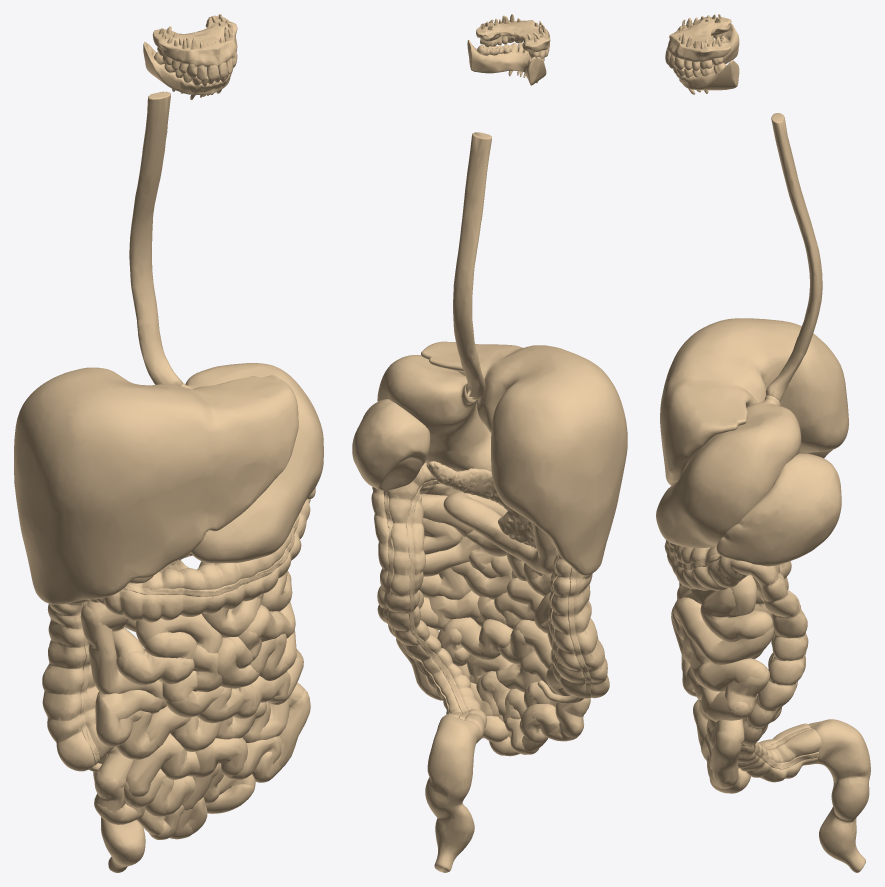
File: digestive.glb
3 renders of one model, left to right at view 1: azimuth 30°, elevation 25°; view 2: azimuth 150°, elevation 25°; view 3: azimuth 270°, elevation 25°, orthographic. The views are drawn at different scales.
Visible parts, largest first — view 1: FMA7197, FMA7208, FMA7207, FMA14543nsn, FMA7148, FMA7131, FMA59763, FMA14544, FMA76892, FMA59764, FMA76893; view 2: FMA7197, FMA14543nsn, FMA7208, FMA7207, FMA7148, FMA14544, FMA7196, FMA7131, FMA7206, FMA7198nsn, FMA76891, FMA76892 (+2 smaller); view 3: FMA7197, FMA7148, FMA14543nsn, FMA7207, FMA7196, FMA14544, FMA7131, FMA7208, FMA59763, FMA59764, FMA76892.
Part boxes in pixels (left/top/right/bottom): FMA7197: left=14, top=367, right=298, bottom=604; FMA7208: left=94, top=682, right=310, bottom=839; FMA7207: left=80, top=570, right=303, bottom=723; FMA14543nsn: left=42, top=499, right=310, bottom=771; FMA7148: left=181, top=363, right=323, bottom=563; FMA7131: left=129, top=91, right=182, bottom=386; FMA59763: left=152, top=15, right=237, bottom=67; FMA14544: left=93, top=755, right=145, bottom=872; FMA76892: left=49, top=514, right=299, bottom=644; FMA59764: left=143, top=41, right=231, bottom=94; FMA76893: left=80, top=600, right=99, bottom=766; FMA7197: left=421, top=341, right=627, bottom=575; FMA14543nsn: left=371, top=463, right=609, bottom=740; FMA7208: left=396, top=617, right=598, bottom=756; FMA7207: left=417, top=493, right=592, bottom=630; FMA7148: left=377, top=355, right=491, bottom=471; FMA14544: left=425, top=716, right=480, bottom=872; FMA7196: left=352, top=399, right=430, bottom=490; FMA7131: left=453, top=132, right=491, bottom=400; FMA7206: left=443, top=491, right=556, bottom=574; FMA7198nsn: left=426, top=461, right=536, bottom=548; FMA76891: left=406, top=480, right=560, bottom=719; FMA76892: left=383, top=490, right=591, bottom=714; FMA7197: left=660, top=318, right=848, bottom=485; FMA7148: left=656, top=395, right=801, bottom=548; FMA14543nsn: left=664, top=542, right=821, bottom=782; FMA7207: left=671, top=575, right=773, bottom=721; FMA7196: left=716, top=453, right=841, bottom=566; FMA14544: left=808, top=719, right=870, bottom=872; FMA7131: left=766, top=113, right=822, bottom=401; FMA7208: left=693, top=696, right=750, bottom=793; FMA59763: left=667, top=17, right=731, bottom=62; FMA59764: left=676, top=24, right=739, bottom=90; FMA76892: left=665, top=540, right=819, bottom=769.
Bounding box in the file's own units: 0.2344 × 0.7392 × 0.1705.
